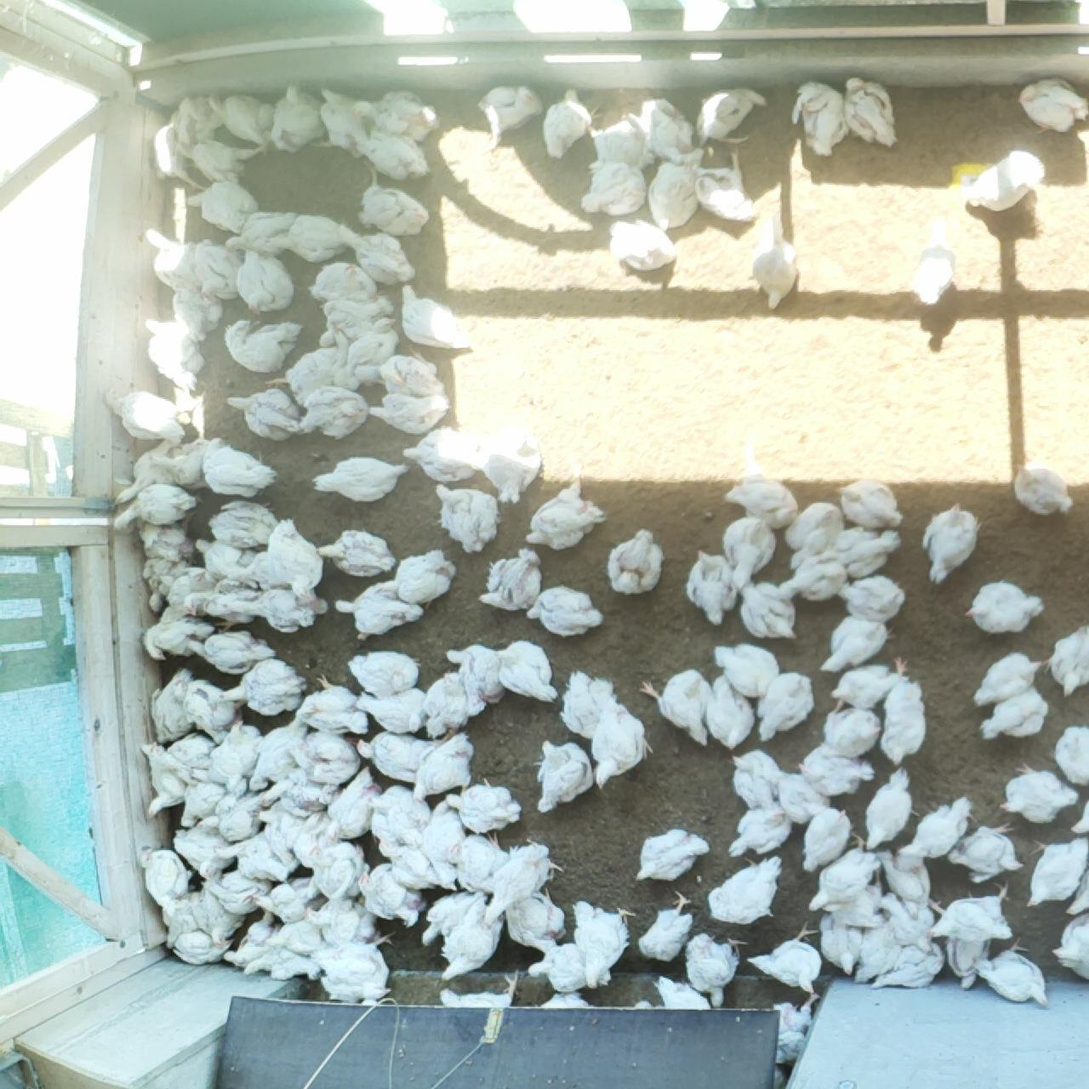chicken: (473, 836, 565, 929), (525, 459, 608, 551), (715, 444, 801, 531), (584, 693, 655, 794), (145, 729, 218, 824), (426, 968, 523, 1038), (315, 929, 396, 1009), (806, 833, 883, 916), (740, 993, 825, 1067), (745, 921, 824, 1000), (218, 655, 309, 723), (571, 897, 635, 991), (968, 940, 1051, 1012), (349, 166, 431, 238), (925, 880, 1013, 947), (640, 668, 711, 751), (255, 517, 326, 599), (108, 477, 200, 540), (331, 579, 425, 640), (334, 220, 418, 288), (708, 855, 786, 928), (398, 281, 477, 353), (745, 211, 803, 309), (894, 793, 978, 859), (114, 432, 185, 510), (1023, 830, 1089, 913), (683, 932, 751, 1012), (479, 419, 542, 505), (354, 730, 449, 787), (104, 386, 191, 448), (963, 149, 1048, 212), (996, 762, 1081, 825), (353, 862, 430, 931), (557, 667, 624, 746), (941, 821, 1022, 885), (438, 912, 507, 987), (267, 345, 349, 408), (530, 987, 602, 1058), (528, 939, 616, 997), (290, 671, 366, 738), (419, 797, 472, 893), (720, 507, 780, 591), (634, 891, 702, 965), (483, 639, 559, 705), (819, 611, 896, 676), (309, 454, 411, 503), (825, 656, 912, 713), (410, 727, 477, 801), (145, 666, 206, 747), (199, 436, 275, 501), (138, 844, 196, 929), (143, 315, 207, 392), (925, 498, 979, 589), (354, 89, 440, 146), (880, 844, 949, 915), (146, 227, 214, 299), (213, 830, 297, 888), (962, 581, 1046, 639), (694, 82, 770, 146), (433, 481, 500, 553), (379, 548, 458, 609), (225, 209, 311, 265), (646, 149, 704, 232), (939, 906, 996, 990), (399, 425, 483, 482), (241, 581, 328, 636), (707, 642, 784, 704), (778, 549, 860, 607), (289, 726, 362, 791), (901, 229, 961, 308), (790, 80, 850, 159), (312, 85, 375, 160), (248, 718, 311, 793), (874, 679, 928, 766), (648, 975, 717, 1043), (266, 83, 333, 153), (477, 83, 543, 154), (524, 584, 606, 641), (862, 766, 915, 854), (978, 684, 1052, 747), (207, 89, 282, 151), (184, 628, 277, 678), (580, 158, 650, 224), (752, 672, 817, 743), (353, 123, 431, 182), (145, 437, 224, 495), (476, 545, 542, 614), (587, 110, 658, 174), (174, 674, 238, 745), (684, 548, 742, 626), (694, 150, 754, 225), (302, 899, 392, 949), (603, 527, 666, 598), (634, 826, 711, 884), (442, 779, 524, 833), (537, 739, 596, 814), (698, 672, 754, 751), (784, 503, 850, 570), (142, 604, 218, 662), (266, 212, 349, 265), (1017, 73, 1089, 134), (296, 383, 370, 442), (219, 913, 286, 978), (630, 93, 698, 157), (501, 886, 564, 955), (1008, 458, 1078, 520), (848, 916, 909, 987), (185, 181, 265, 235), (341, 318, 401, 390), (795, 744, 875, 798), (180, 137, 268, 186), (420, 888, 493, 947), (224, 385, 302, 440), (254, 800, 319, 866), (868, 937, 946, 992), (442, 642, 509, 706), (232, 246, 295, 314), (357, 354, 450, 400), (326, 767, 383, 842), (212, 720, 266, 799), (823, 525, 908, 575), (728, 748, 792, 814), (171, 820, 239, 882), (315, 527, 396, 579), (841, 74, 899, 146), (606, 218, 678, 276), (150, 121, 207, 194), (223, 318, 303, 370), (345, 648, 423, 701), (298, 842, 369, 900), (735, 574, 797, 640), (420, 670, 479, 739), (972, 652, 1046, 707), (317, 294, 395, 346), (449, 830, 513, 893), (365, 781, 425, 848), (184, 576, 257, 631), (882, 888, 941, 956), (354, 687, 439, 734), (208, 498, 283, 551), (181, 885, 247, 945), (192, 532, 264, 586), (202, 866, 281, 915), (815, 906, 868, 979), (166, 280, 226, 344), (768, 771, 835, 828), (725, 804, 794, 859), (366, 395, 454, 438), (833, 577, 910, 626), (541, 87, 592, 160), (249, 879, 323, 929), (175, 774, 241, 830), (800, 805, 854, 873), (244, 939, 322, 986), (835, 476, 905, 528), (194, 237, 247, 304), (196, 793, 267, 843), (817, 881, 889, 930), (1044, 621, 1089, 699), (161, 96, 227, 149), (820, 704, 883, 759), (378, 837, 443, 889), (1048, 909, 1089, 991), (292, 811, 344, 875), (137, 556, 195, 613), (131, 513, 198, 562), (309, 262, 379, 308), (161, 894, 209, 960), (166, 927, 233, 968), (1048, 725, 1089, 790), (263, 913, 324, 955), (1060, 859, 1089, 924)
